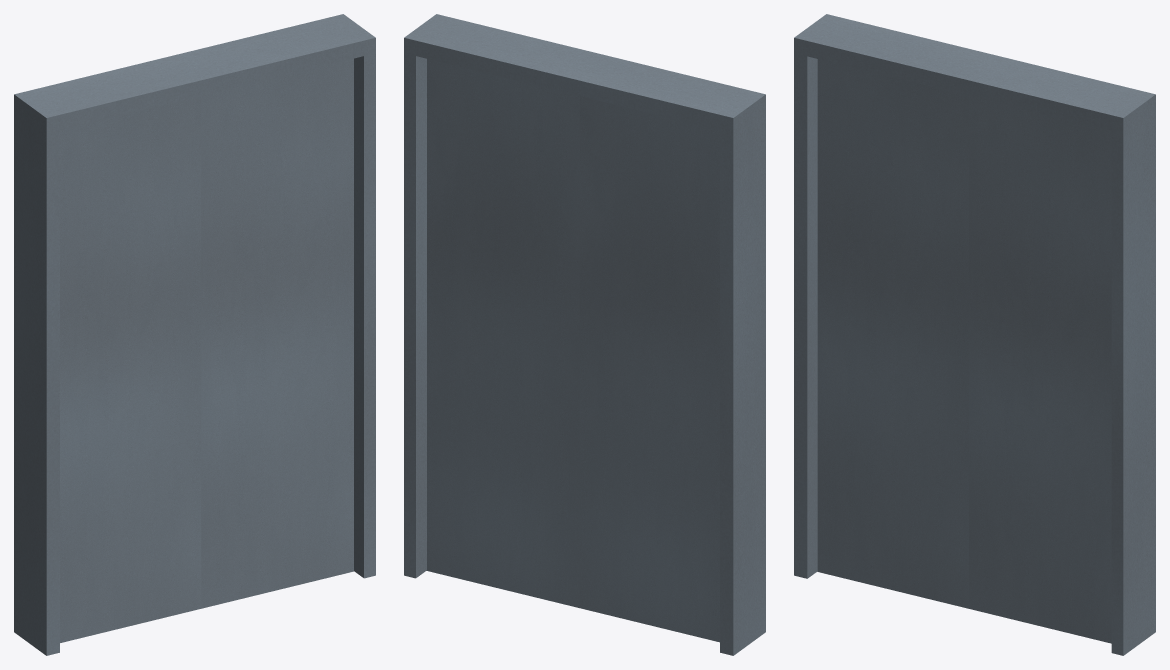
The model's file is Door.gltf.
3 views of the same model, side by side, from view 1: azimuth 30°, elevation 25°; view 2: azimuth 150°, elevation 25°; view 3: azimuth 330°, elevation 25° (orthographic).
Visible parts, largest first — view 1: Cube, Cube.002, Cube.001; view 2: Cube, Cube.002, Cube.001; view 3: Cube.002, Cube, Cube.001.
Part boxes in pixels (x1,y1,x2,y2): Cube: [201, 58, 353, 608]; Cube.002: [60, 96, 201, 642]; Cube.001: [14, 14, 375, 655]; Cube: [426, 59, 579, 608]; Cube.002: [579, 96, 719, 642]; Cube.001: [404, 14, 765, 655]; Cube.002: [817, 59, 969, 608]; Cube: [969, 96, 1111, 643]; Cube.001: [794, 14, 1155, 655].
Bounding box in the file's own units: 2.11 × 3.29 × 0.3596.
2 materials, 2 textured.
